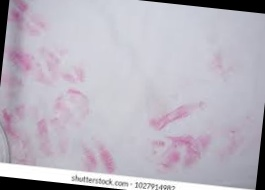lipstick: (0, 98, 127, 177), (147, 131, 211, 177), (146, 98, 213, 135), (46, 84, 93, 130), (42, 47, 89, 85), (8, 0, 46, 37), (4, 43, 42, 77), (226, 119, 256, 160), (208, 51, 234, 82)
